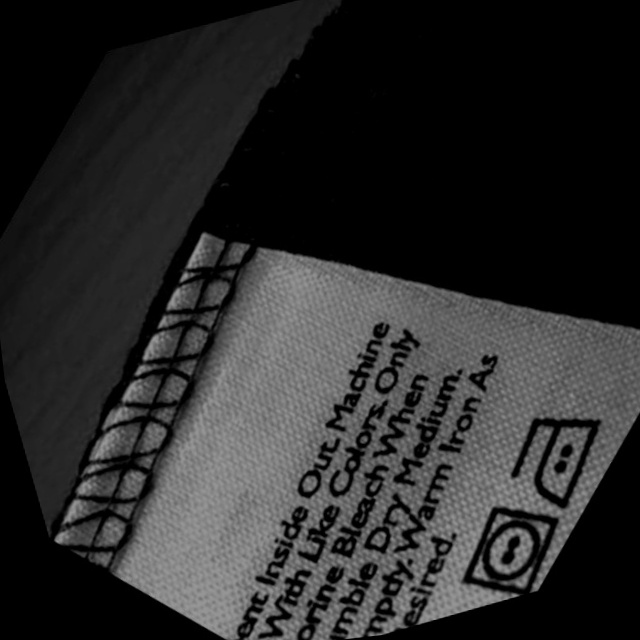iron_medium: (497, 397, 628, 518)
tumble_dry_medium: (446, 490, 580, 609)
